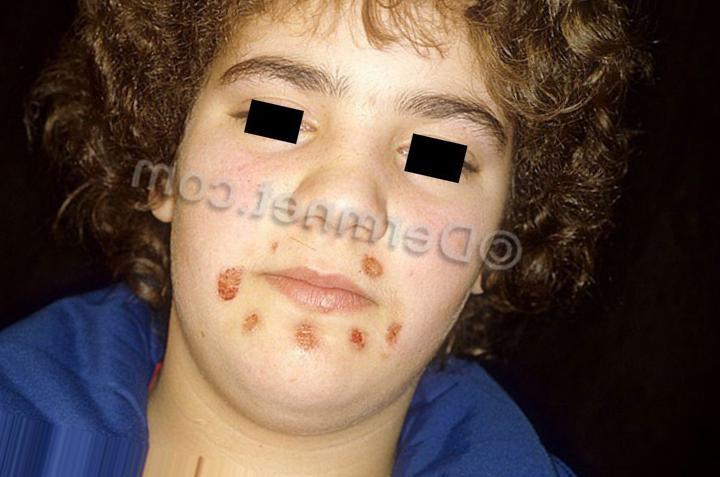Acne: (286, 319, 346, 357), (383, 319, 431, 356), (213, 262, 253, 301), (339, 315, 375, 353), (358, 252, 394, 286), (235, 308, 270, 331), (265, 233, 289, 254)
